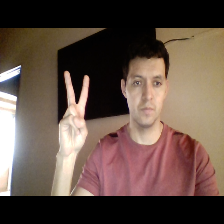KP: (56, 66, 93, 156)
